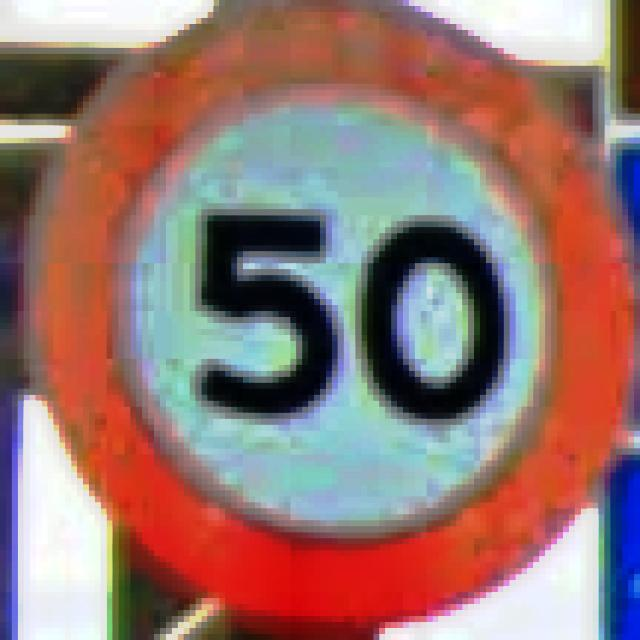max50: (18, 0, 634, 634)
